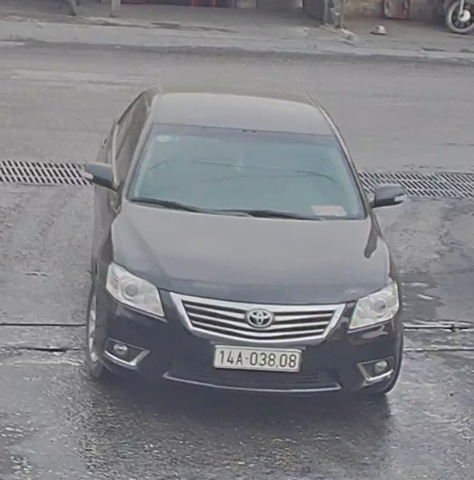vehicle plate: (211, 340, 307, 373)
